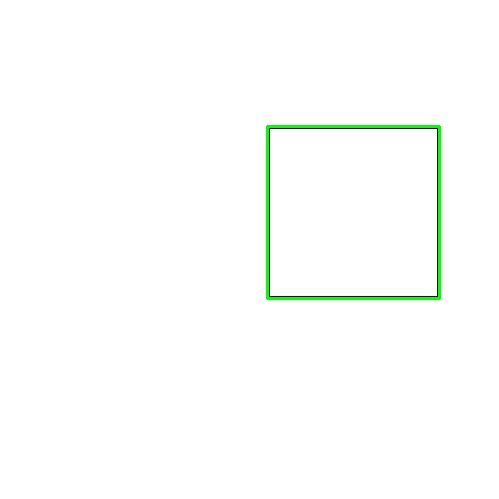line_segment: (266, 125, 441, 300)
